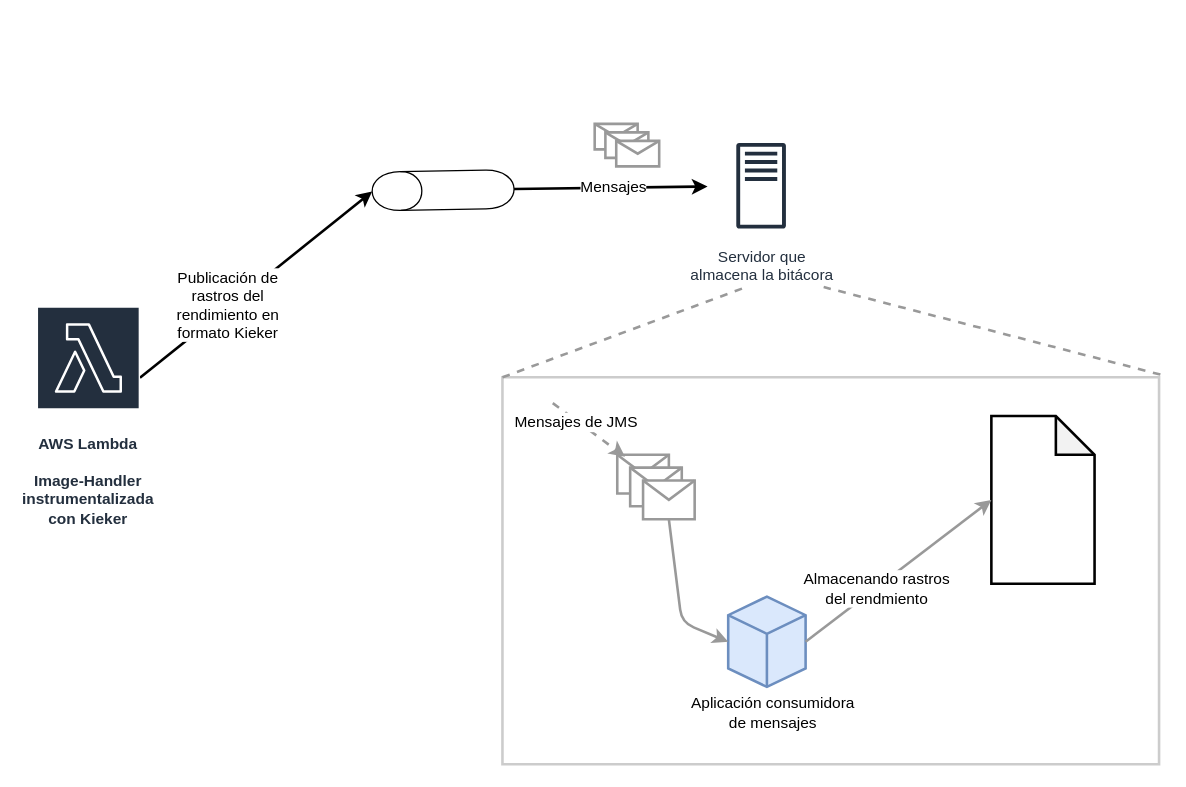
Image size: 1186x787. Some labels were removed from this diagram. Here are the shapes that lost their labels. From the top down, the box of each, then its label:
(370, 168, 514, 211): Cola de mensajería JMS
(989, 414, 1095, 584): Bitácora en formato Kieker
